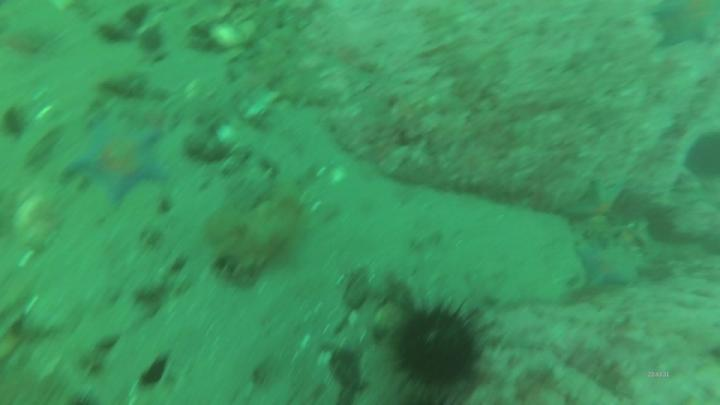echinus: (386, 293, 498, 401)
holothurian: (207, 185, 306, 281), (253, 27, 345, 113)
starfish: (66, 119, 174, 207), (575, 234, 645, 294)
